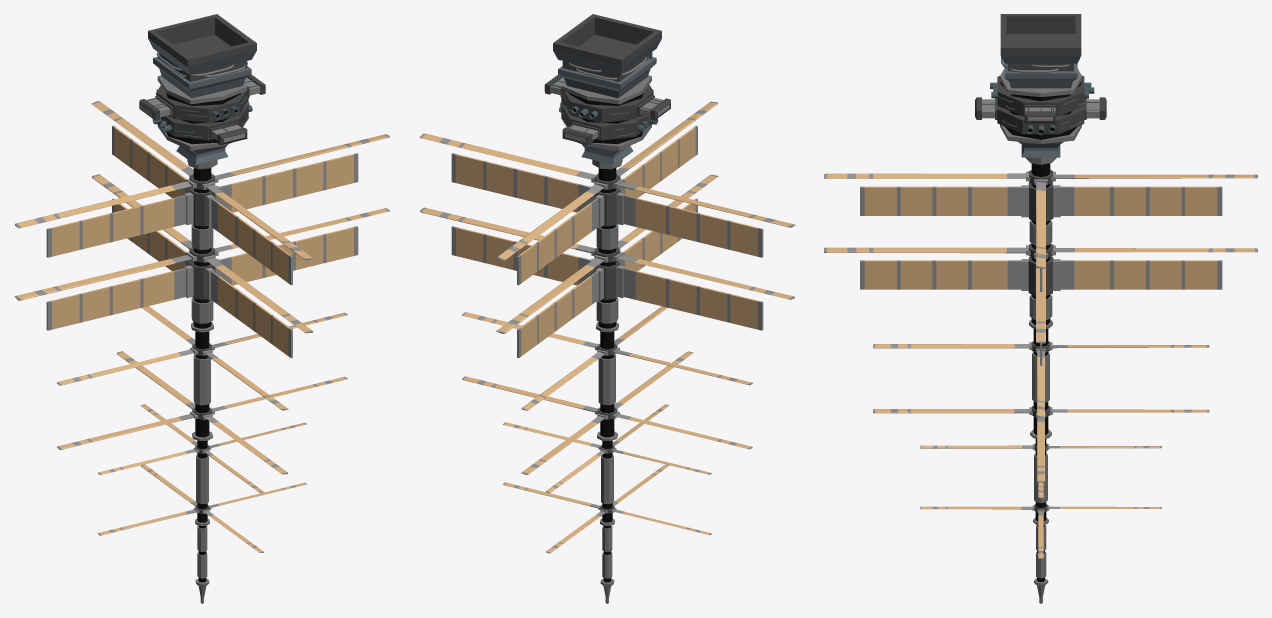
The picture shows the model from 3 angles, left to right: view 1: azimuth 30°, elevation 25°; view 2: azimuth 150°, elevation 25°; view 3: azimuth 270°, elevation 25°; orthographic projection.
Parts seen in each view (by area): view 1: Cube, Cylinder.008, Cylinder.009, Cylinder.002, Cylinder.003, Cylinder.005, Cylinder.001, Cylinder.004, Cylinder, Cylinder.007, Cylinder.006; view 2: Cube, Cylinder.008, Cylinder.009, Cylinder.002, Cylinder.003, Cylinder.005, Cylinder.001, Cylinder.004, Cylinder, Cylinder.007, Cylinder.006; view 3: Cube, Cylinder.008, Cylinder.009, Cylinder.002, Cylinder.003, Cylinder, Cylinder.001, Cylinder.005, Cylinder.004, Cylinder.007, Cylinder.006.
Part boxes in pixels (box(x1,y1,x2,y2)): Cube: box(148, 14, 256, 603); Cylinder.008: box(46, 125, 358, 285); Cylinder.009: box(46, 198, 358, 358); Cylinder.002: box(15, 101, 389, 260); Cylinder.003: box(14, 174, 390, 333); Cylinder.005: box(56, 351, 347, 474); Cylinder.001: box(139, 74, 265, 122); Cylinder.004: box(57, 306, 347, 410); Cylinder: box(152, 89, 252, 145); Cylinder.007: box(97, 464, 306, 552); Cylinder.006: box(98, 404, 306, 492); Cube: box(553, 14, 661, 603); Cylinder.008: box(451, 125, 763, 285); Cylinder.009: box(451, 198, 763, 358); Cylinder.002: box(419, 101, 795, 260); Cylinder.003: box(420, 174, 794, 333); Cylinder.005: box(462, 351, 752, 474); Cylinder.001: box(544, 74, 670, 122); Cylinder.004: box(461, 306, 752, 410); Cylinder: box(559, 89, 658, 145); Cylinder.007: box(503, 464, 711, 553); Cylinder.006: box(503, 404, 711, 493); Cube: box(1000, 14, 1081, 603); Cylinder.008: box(860, 182, 1222, 291); Cylinder.009: box(860, 256, 1222, 365); Cylinder.002: box(824, 170, 1257, 268); Cylinder.003: box(824, 243, 1257, 343); Cylinder: box(975, 97, 1106, 135); Cylinder.001: box(990, 75, 1094, 122); Cylinder.005: box(873, 406, 1209, 482); Cylinder.004: box(873, 341, 1209, 417); Cylinder.007: box(920, 504, 1161, 559); Cylinder.006: box(920, 443, 1161, 498).
Size of the model in its own units: 1074 by 1565 by 1074.
